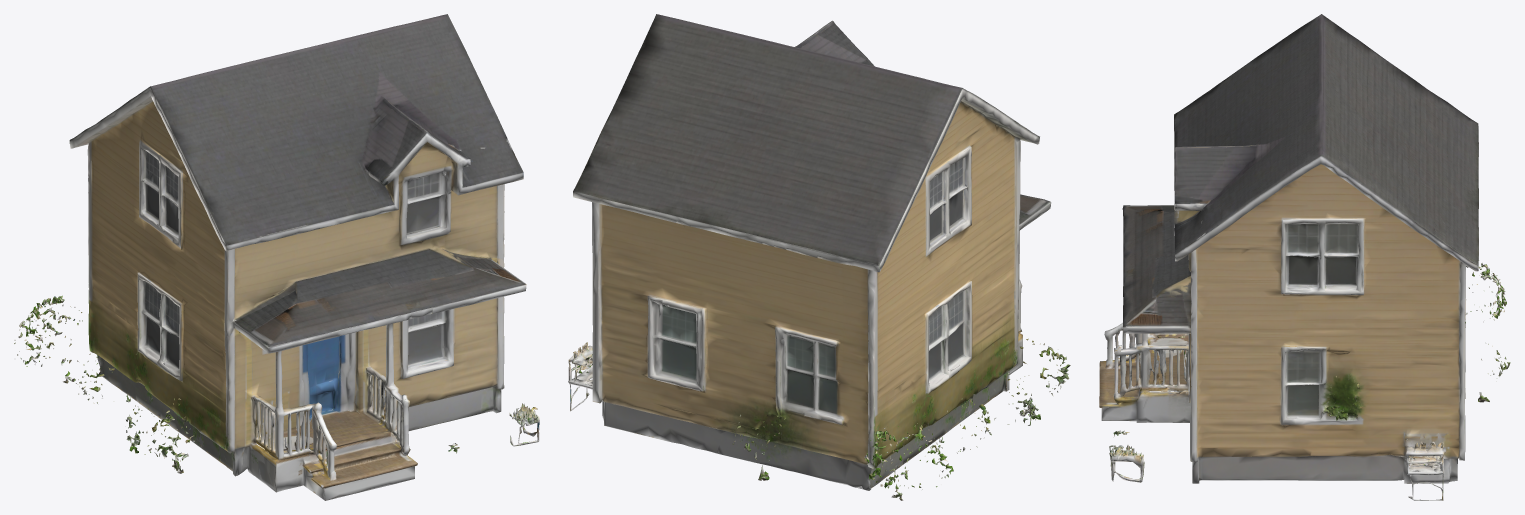
The model's file is Simple_2_story_house_0715150357_texture.fbx.
3 renders of one model, left to right at view 1: azimuth 30°, elevation 25°; view 2: azimuth 150°, elevation 25°; view 3: azimuth 270°, elevation 25°, orthographic. The views are drawn at different scales.
Parts seen in each view (by area): view 1: Mesh_0; view 2: Mesh_0; view 3: Mesh_0.
Boxes of the visible parts, left/top/right/bottom form: Mesh_0: left=14, top=14, right=539, bottom=500; Mesh_0: left=568, top=14, right=1070, bottom=500; Mesh_0: left=1099, top=14, right=1510, bottom=500.
Size of the model in its own units: 198 by 174 by 192.
1 material, 1 textured.
